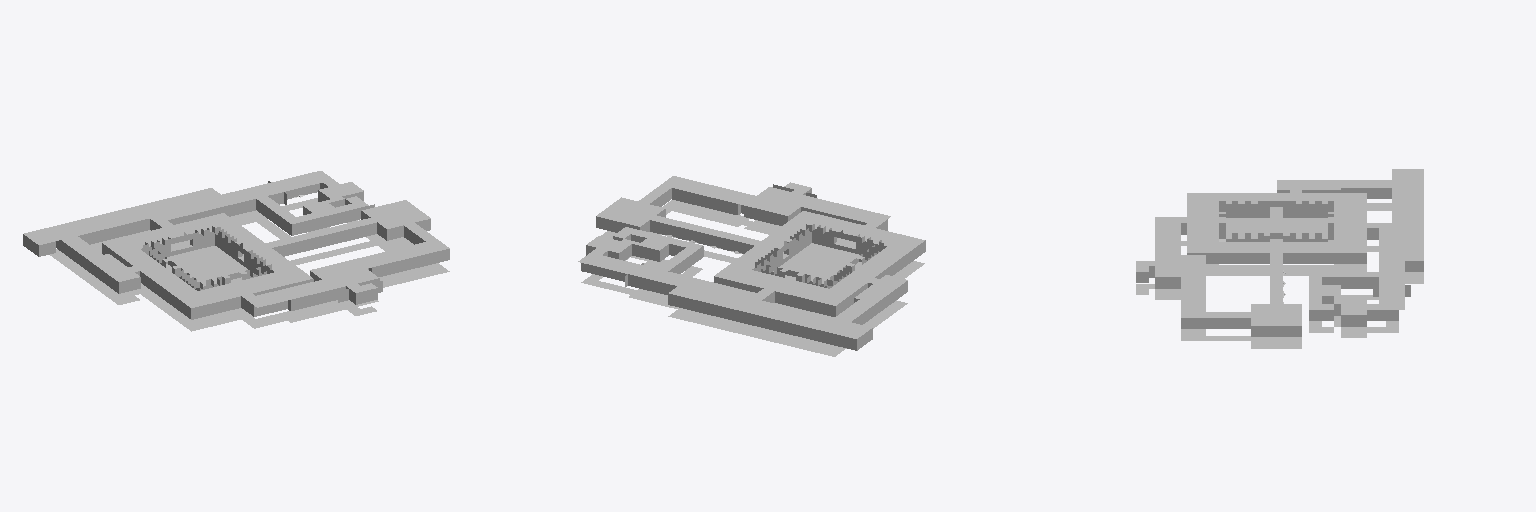
The model's file is Combined Mesh (root_ scene).obj.
3 renders of one model, left to right at view 1: azimuth 30°, elevation 25°; view 2: azimuth 150°, elevation 25°; view 3: azimuth 270°, elevation 25°, orthographic.
Visible parts, largest first — view 1: Combined Mesh (root: scene)_55, Combined Mesh (root: scene)_52, Combined Mesh (root: scene)_62, Combined Mesh (root: scene)_53, Combined Mesh (root: scene)_61; view 2: Combined Mesh (root: scene)_55, Combined Mesh (root: scene)_52, Combined Mesh (root: scene)_62, Combined Mesh (root: scene)_53, Combined Mesh (root: scene)_61; view 3: Combined Mesh (root: scene)_55, Combined Mesh (root: scene)_52, Combined Mesh (root: scene)_62, Combined Mesh (root: scene)_53, Combined Mesh (root: scene)_61.
Boxes of the visible parts, x1,y1,x2,y2 form: Combined Mesh (root: scene)_55: [24, 171, 449, 307]; Combined Mesh (root: scene)_52: [23, 183, 449, 319]; Combined Mesh (root: scene)_62: [50, 198, 449, 331]; Combined Mesh (root: scene)_53: [143, 226, 271, 290]; Combined Mesh (root: scene)_61: [167, 246, 253, 286]; Combined Mesh (root: scene)_55: [578, 176, 924, 338]; Combined Mesh (root: scene)_52: [581, 184, 925, 350]; Combined Mesh (root: scene)_62: [581, 200, 924, 356]; Combined Mesh (root: scene)_53: [755, 224, 883, 288]; Combined Mesh (root: scene)_61: [773, 243, 859, 283]; Combined Mesh (root: scene)_55: [1136, 169, 1423, 325]; Combined Mesh (root: scene)_52: [1149, 188, 1423, 336]; Combined Mesh (root: scene)_62: [1136, 203, 1423, 348]; Combined Mesh (root: scene)_53: [1219, 198, 1333, 241]; Combined Mesh (root: scene)_61: [1226, 218, 1327, 238].
Size of the model in its own units: 58 by 5 by 45.